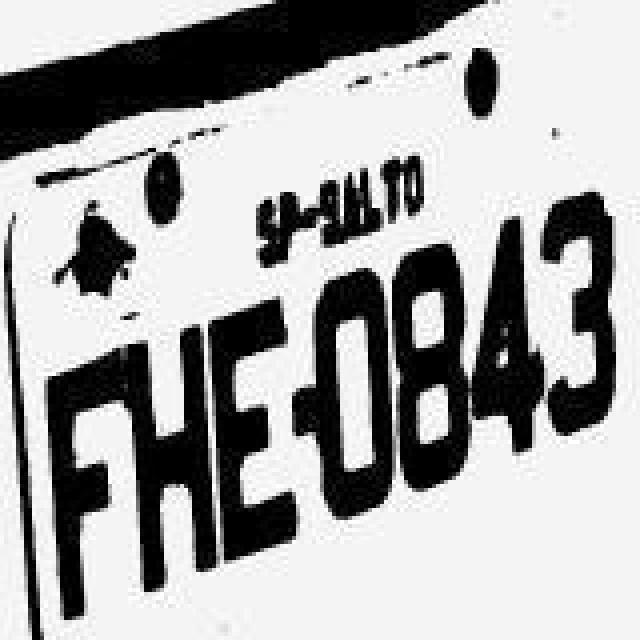3: (536, 172, 616, 468)
4: (462, 202, 546, 486)
8: (392, 224, 472, 496)
E: (214, 290, 298, 574)
F: (48, 328, 128, 624)
H: (132, 314, 220, 598)
O: (312, 254, 392, 530)
